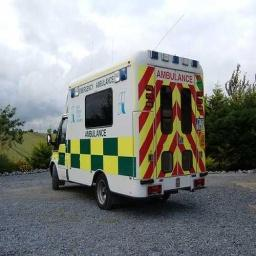ambulance: (48, 51, 206, 208)
